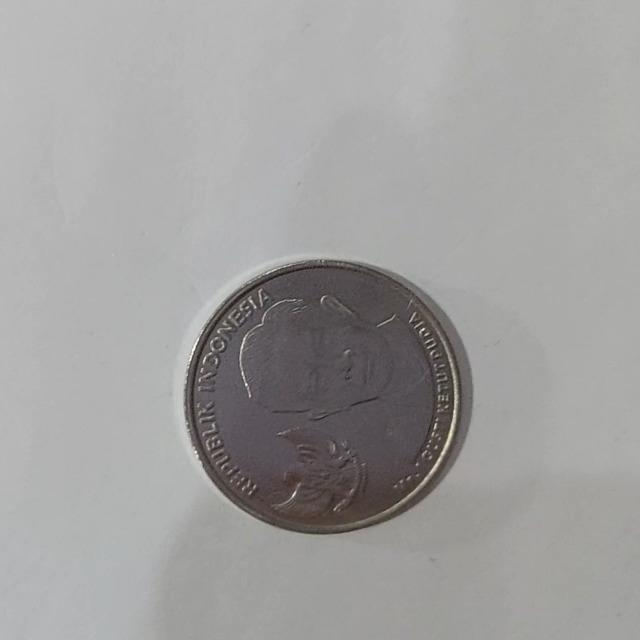Rp100: (181, 255, 463, 534)
